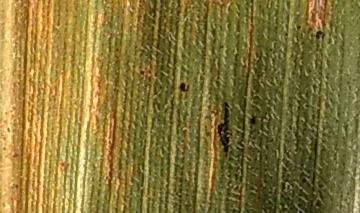tarspot: (216, 101, 233, 155), (313, 30, 326, 41), (178, 82, 190, 93), (249, 113, 257, 126), (315, 198, 323, 209), (138, 69, 146, 76), (300, 177, 308, 184), (295, 24, 302, 31), (283, 31, 289, 38), (267, 47, 274, 53), (303, 103, 310, 109)
